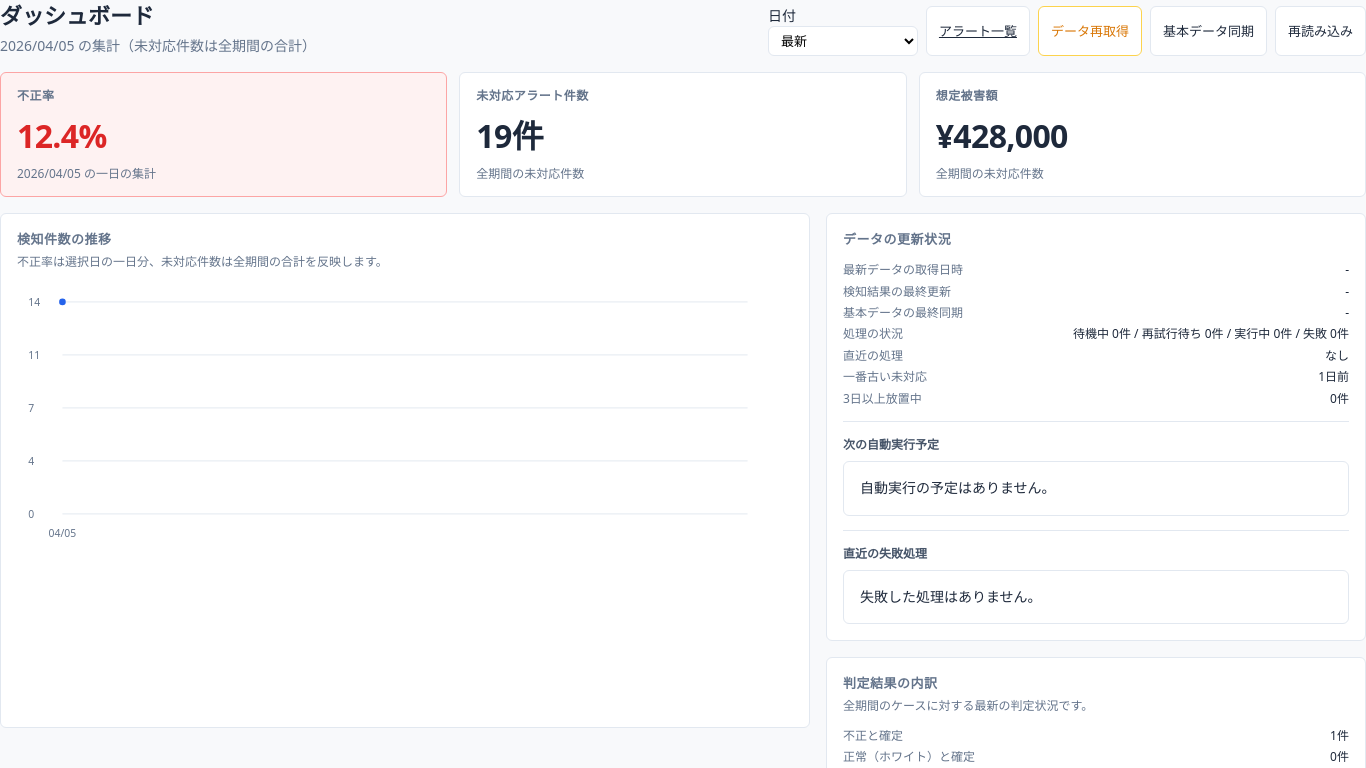
Test: DashboardScreen › starts refresh and loads job status for admin actions
Click the button "データ再取得".
click(1090, 31)  # box [1038,6,1142,56]
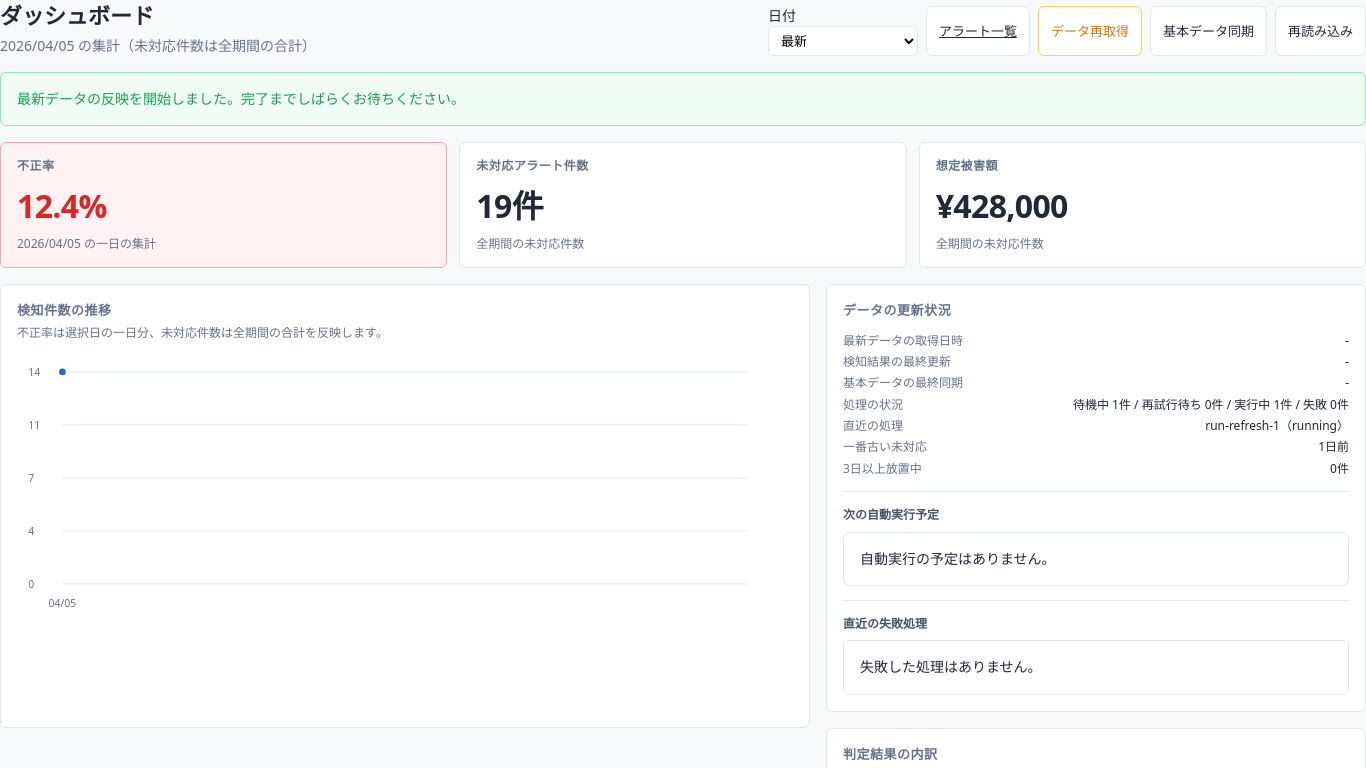
Result: the text "最新データの反映を開始しました。完了までしばらくお待ちください。" is shown at [0,72,1365,126]
